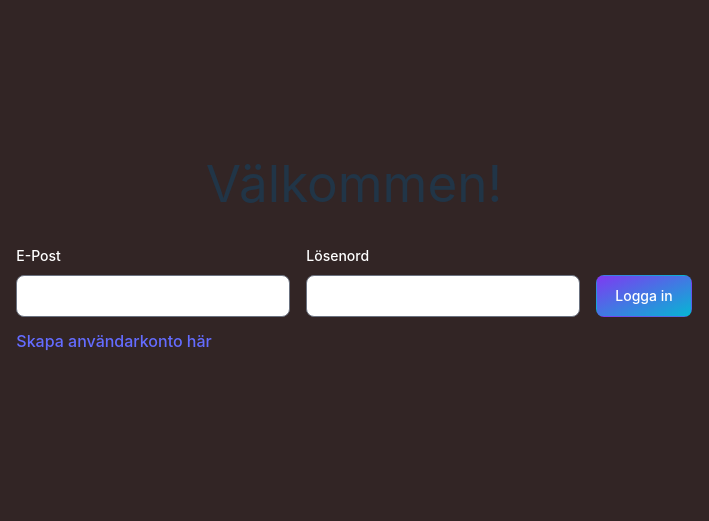
register › Ska misslyckas när inga fält är ifyllda
Click the link with test id "register" at coordinates (114, 341), box [16, 331, 211, 351]
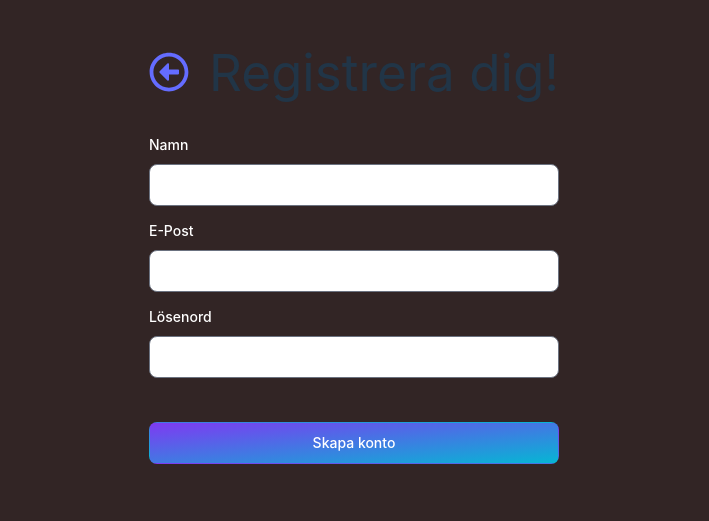
Click the button with test id "registerSubmit" at coordinates (354, 443), box [149, 422, 559, 464]
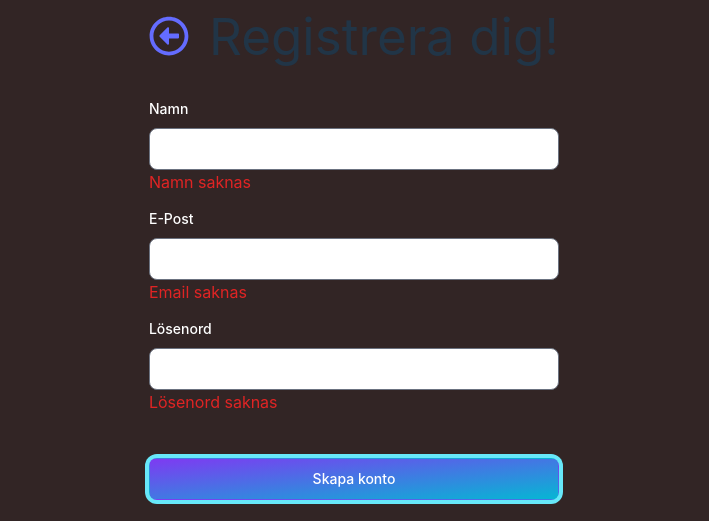
expect the text "Namn saknas" is shown: met, box [149, 172, 251, 192]
expect the text "Email saknas" is shown: met, box [149, 282, 247, 302]
expect the text "Lösenord saknas" is shown: met, box [149, 392, 278, 412]
